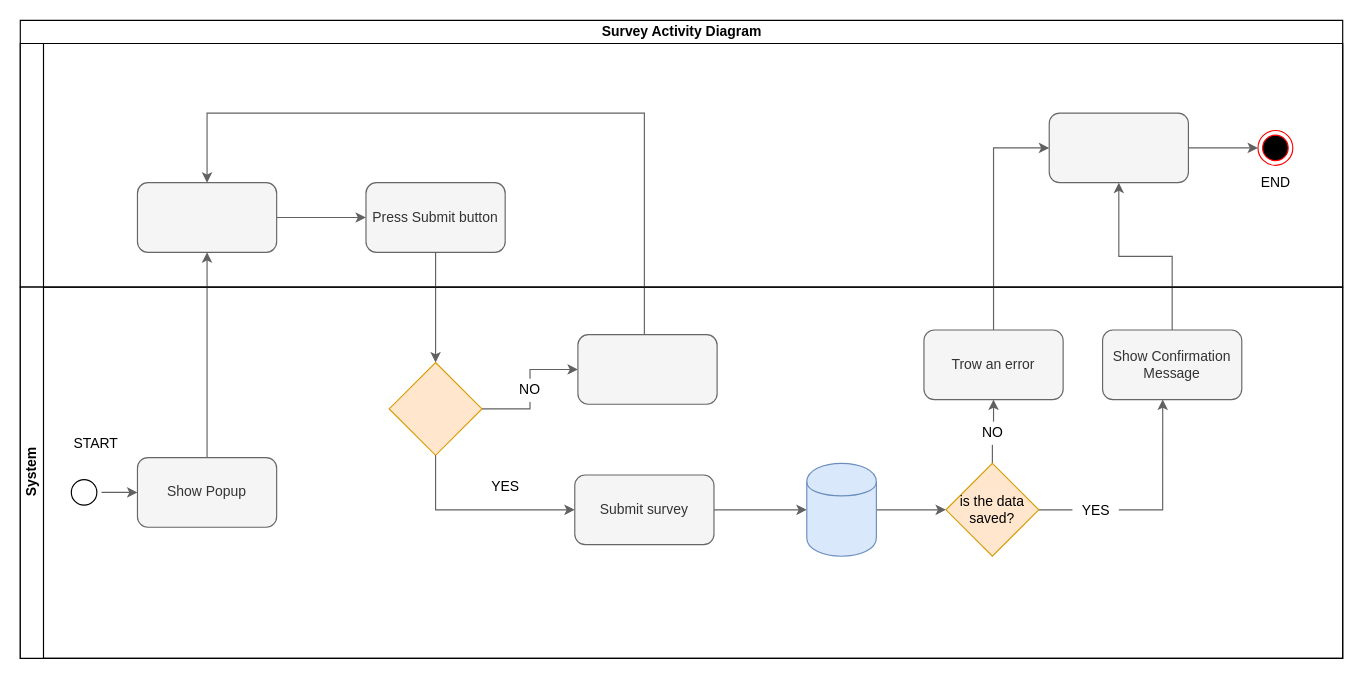
Image size: 1363x679. Some labels were removed from this diagram. The shapes that lost their labels are listed below. From the top down, each one's box as (x1, y1, x2, y2) in pixels, then its label:
(19, 42, 1343, 287): User
(1048, 112, 1188, 183): Press Close Popup Button
(136, 182, 277, 252): Complete survey
(577, 334, 717, 404): Show validation message
(388, 361, 482, 455): is survey valid?
(806, 462, 876, 556): Save to Database
